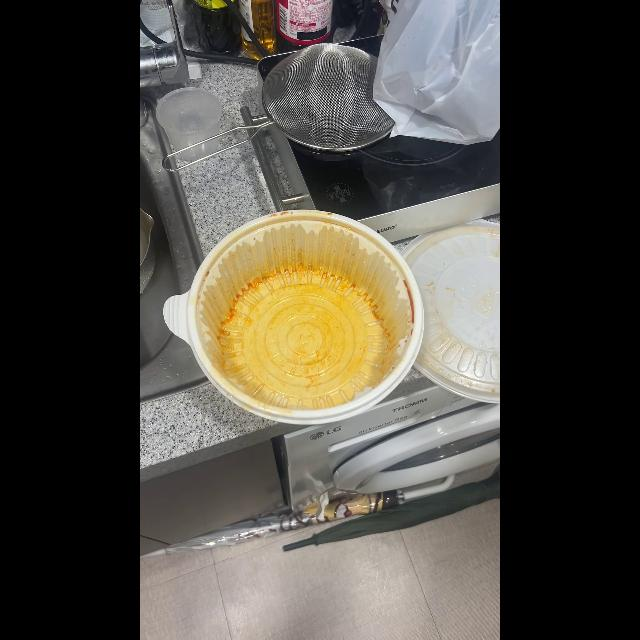dirty: (196, 216, 418, 406)
